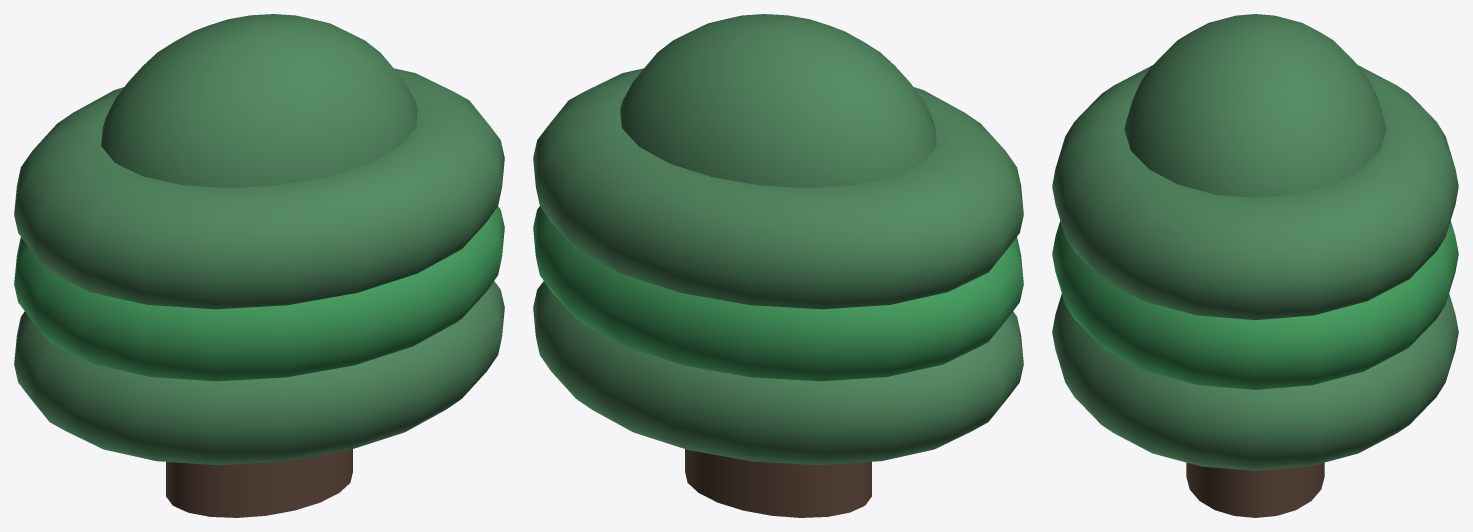
File: shrub colored.fbx
3 views of the same model, side by side, from view 1: azimuth 30°, elevation 25°; view 2: azimuth 150°, elevation 25°; view 3: azimuth 270°, elevation 25° (orthographic). The views are drawn at different scales.
Visible parts, largest first — view 1: Middle_Ring, Round_Top, Base1, Base, Shrub_D2; view 2: Middle_Ring, Round_Top, Base1, Base, Shrub_D2; view 3: Middle_Ring, Round_Top, Base1, Base, Shrub_D2.
Part boxes in pixels (bbox=[...]): Middle_Ring: bbox=[14, 68, 504, 309]; Round_Top: bbox=[101, 14, 417, 188]; Base1: bbox=[14, 281, 504, 465]; Base: bbox=[14, 206, 504, 381]; Shrub_D2: bbox=[166, 449, 352, 517]; Middle_Ring: bbox=[533, 68, 1023, 309]; Round_Top: bbox=[620, 14, 936, 188]; Base1: bbox=[533, 281, 1023, 465]; Base: bbox=[533, 206, 1023, 381]; Shrub_D2: bbox=[685, 449, 871, 517]; Middle_Ring: bbox=[1052, 65, 1458, 320]; Round_Top: bbox=[1124, 14, 1386, 197]; Base1: bbox=[1052, 293, 1458, 470]; Base: bbox=[1052, 221, 1458, 389]; Shrub_D2: bbox=[1186, 462, 1324, 517].
Size of the model in its own units: 1.4 by 1.36 by 1.13.
